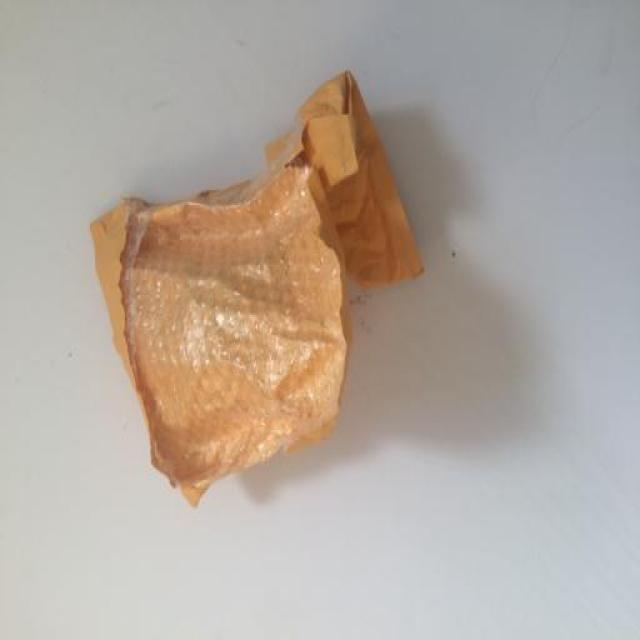Random Trash: (88, 68, 425, 508)
